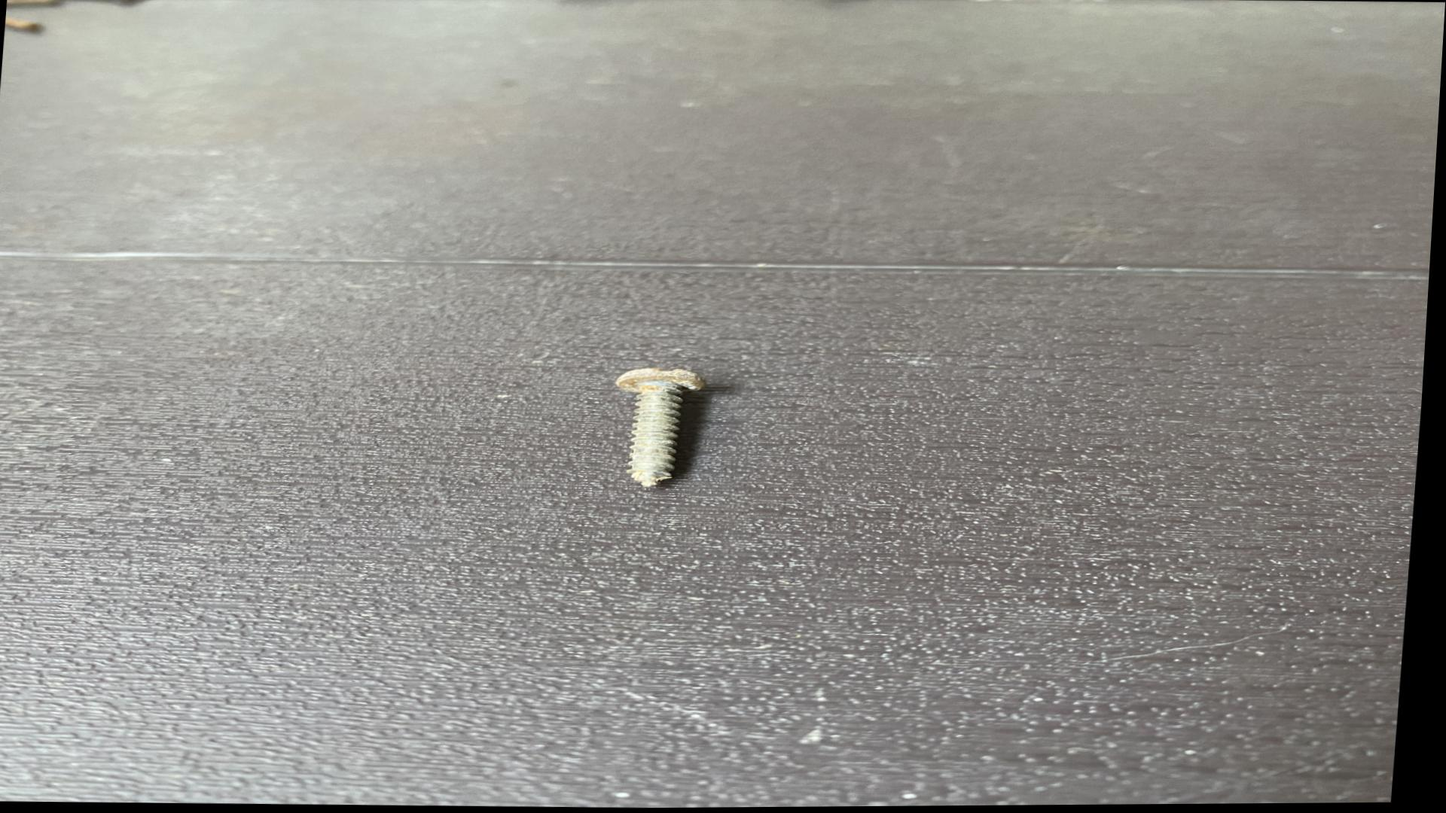screw: (582, 354, 753, 502)
